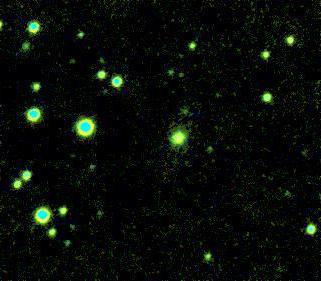star: (293, 137, 321, 167)
